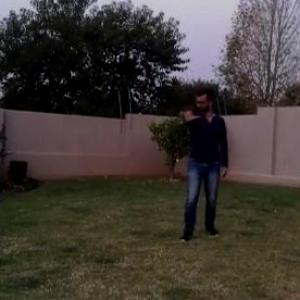follow_hand: (178, 99, 199, 124)
